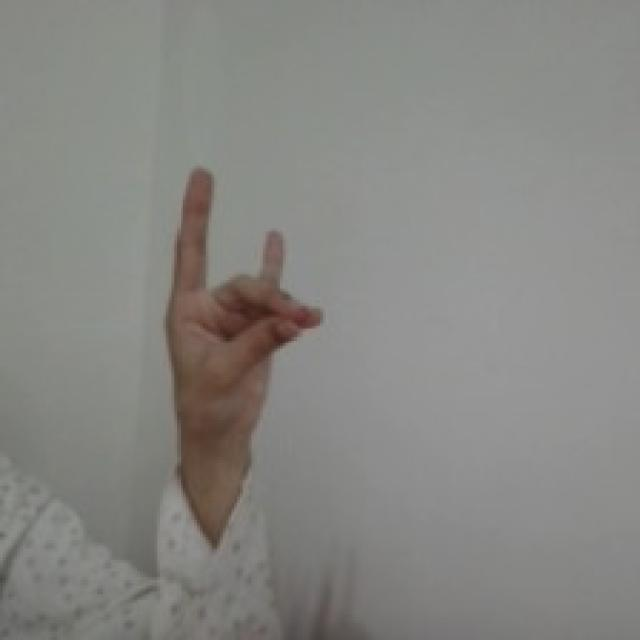Dog: (156, 161, 334, 450)
